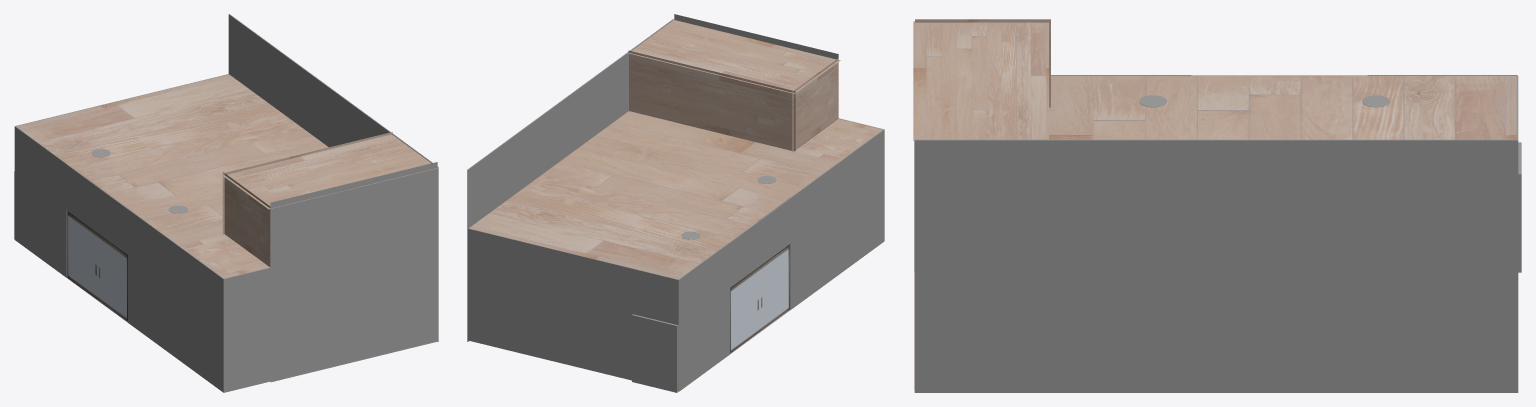
The model's file is objtest.obj.
3 views of the same model, side by side, from view 1: azimuth 30°, elevation 25°; view 2: azimuth 150°, elevation 25°; view 3: azimuth 270°, elevation 25° (orthographic). The views are drawn at different scales.
Visible parts, largest first — view 1: frontdoor_Plane.006, ceiling_Plane.004, frontwallleft.001_Cube.002, backwall_Cube, ceiling2.003_Plane.009, frontwallleft_Cube.001, windowwall.000_Cube.005, sidedoor_Plane.002, blankwall1_Cube.006, ceiling2.001_Plane.003, ceiling2.002_Plane.007, ceiling2.000_Plane.008; view 2: ceiling_Plane.004, windowwall.001_Cube.004, frontwallleft.001_Cube.002, ceiling2.000_Plane.008, backwall_Cube, ceiling2.003_Plane.009, frontwallleft_Cube.001, sidedoor_Plane.002, door_Cube.003, blankwall1_Cube.006, ceiling2.001_Plane.003, ceiling2.002_Plane.007 (+1 smaller); view 3: backwall_Cube, ceiling_Plane.004, ceiling2.003_Plane.009, ceiling2.001_Plane.003, door_Cube.003.
Boxes of the visible parts, x1,y1,x2,y2 form: frontdoor_Plane.006: (270, 162, 437, 382); ceiling_Plane.004: (16, 74, 328, 245); frontwallleft.001_Cube.002: (128, 209, 224, 392); backwall_Cube: (228, 14, 438, 341); ceiling2.003_Plane.009: (222, 134, 437, 209); frontwallleft_Cube.001: (14, 126, 67, 277); windowwall.000_Cube.005: (224, 267, 270, 392); sidedoor_Plane.002: (67, 211, 127, 322); blankwall1_Cube.006: (65, 164, 128, 255); ceiling2.001_Plane.003: (223, 172, 270, 266); ceiling2.002_Plane.007: (179, 234, 269, 278); ceiling2.000_Plane.008: (222, 132, 392, 234); ceiling_Plane.004: (469, 111, 837, 279); windowwall.001_Cube.004: (467, 228, 678, 380); frontwallleft.001_Cube.002: (789, 129, 884, 310); ceiling2.000_Plane.008: (628, 50, 795, 151); backwall_Cube: (467, 19, 673, 341); ceiling2.003_Plane.009: (628, 20, 840, 93); frontwallleft_Cube.001: (678, 242, 730, 391); sidedoor_Plane.002: (730, 244, 789, 353); door_Cube.003: (632, 314, 677, 392); blankwall1_Cube.006: (728, 198, 791, 288); ceiling2.001_Plane.003: (792, 58, 838, 151); ceiling2.002_Plane.007: (794, 118, 882, 162); backwall_Cube: (914, 139, 1518, 392); ceiling_Plane.004: (1049, 76, 1516, 139); ceiling2.003_Plane.009: (913, 21, 1048, 140); ceiling2.001_Plane.003: (915, 19, 1050, 107); door_Cube.003: (1518, 142, 1521, 272).
Size of the model in its own units: 23.17 by 18.56 by 39.28.
